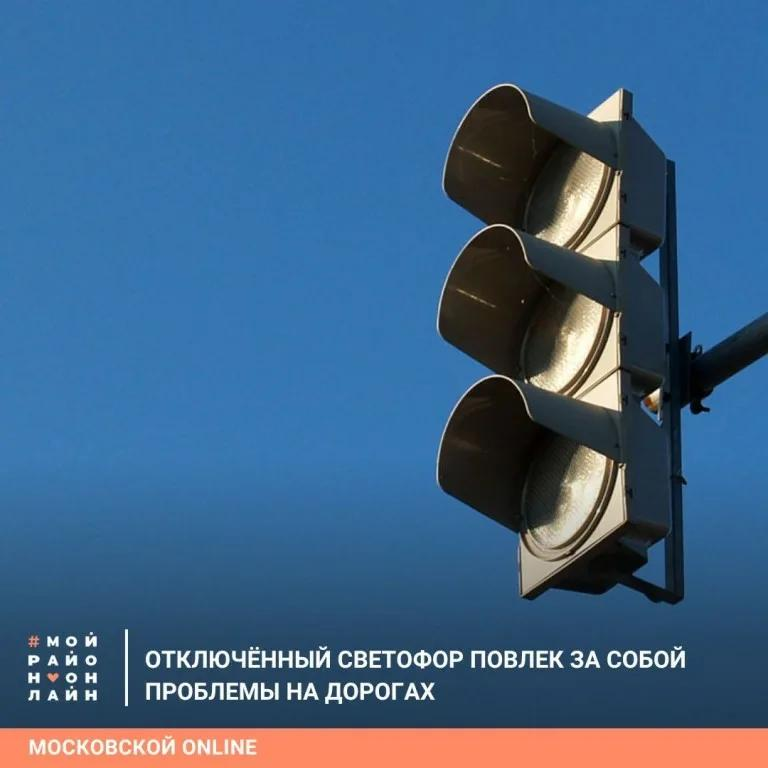off traffic light: (437, 84, 680, 601)
